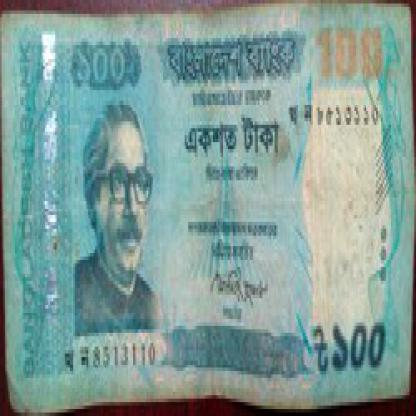one hundred taka: (68, 31, 152, 104), (310, 17, 392, 87), (328, 301, 396, 378)
